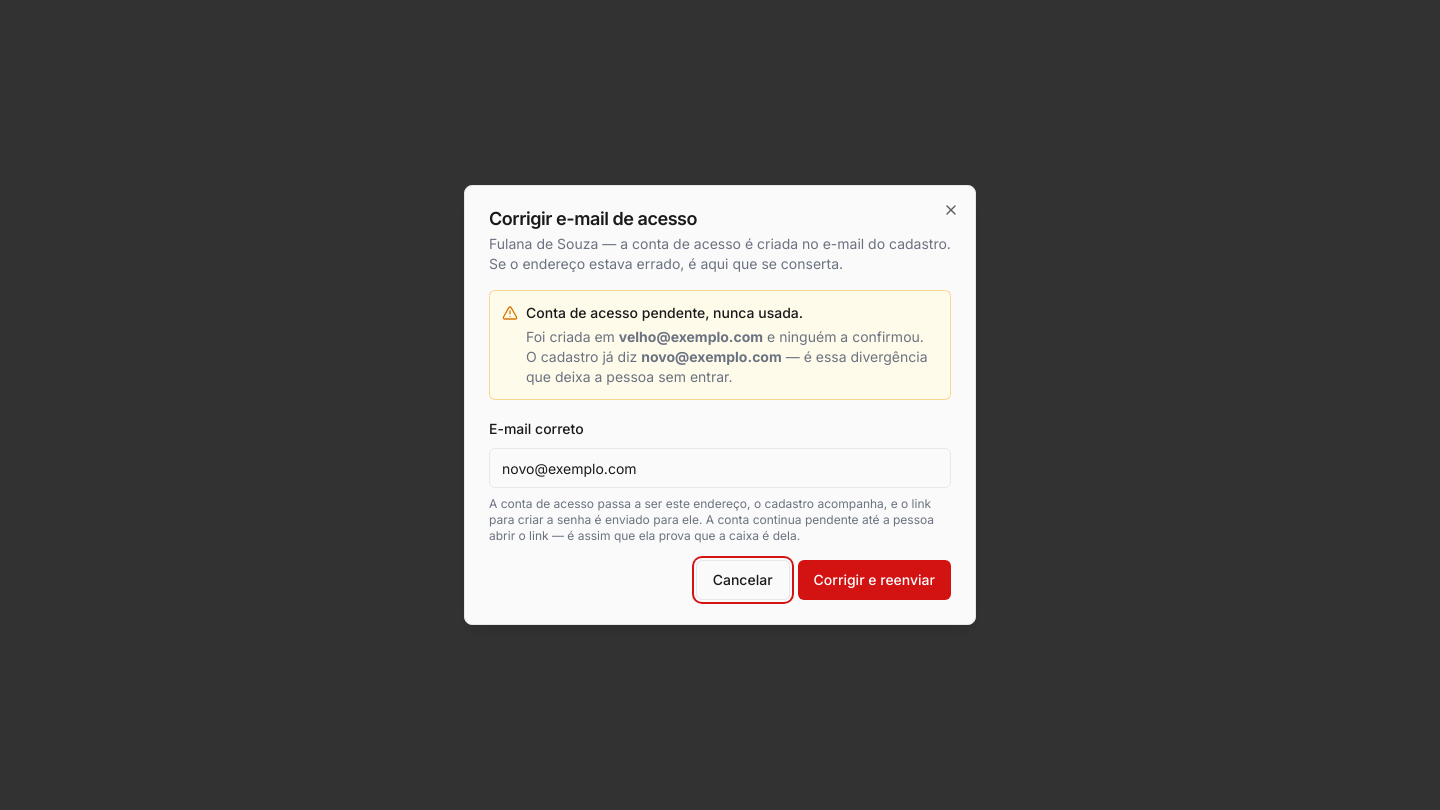
Test: CorrigirEmailAcessoDialog (interação) › depois de corrigir › erro na correção mantém o diálogo aberto, com o preenchimento
Click the button "Corrigir e reenviar".
click(874, 580)  # box [798,560,951,600]
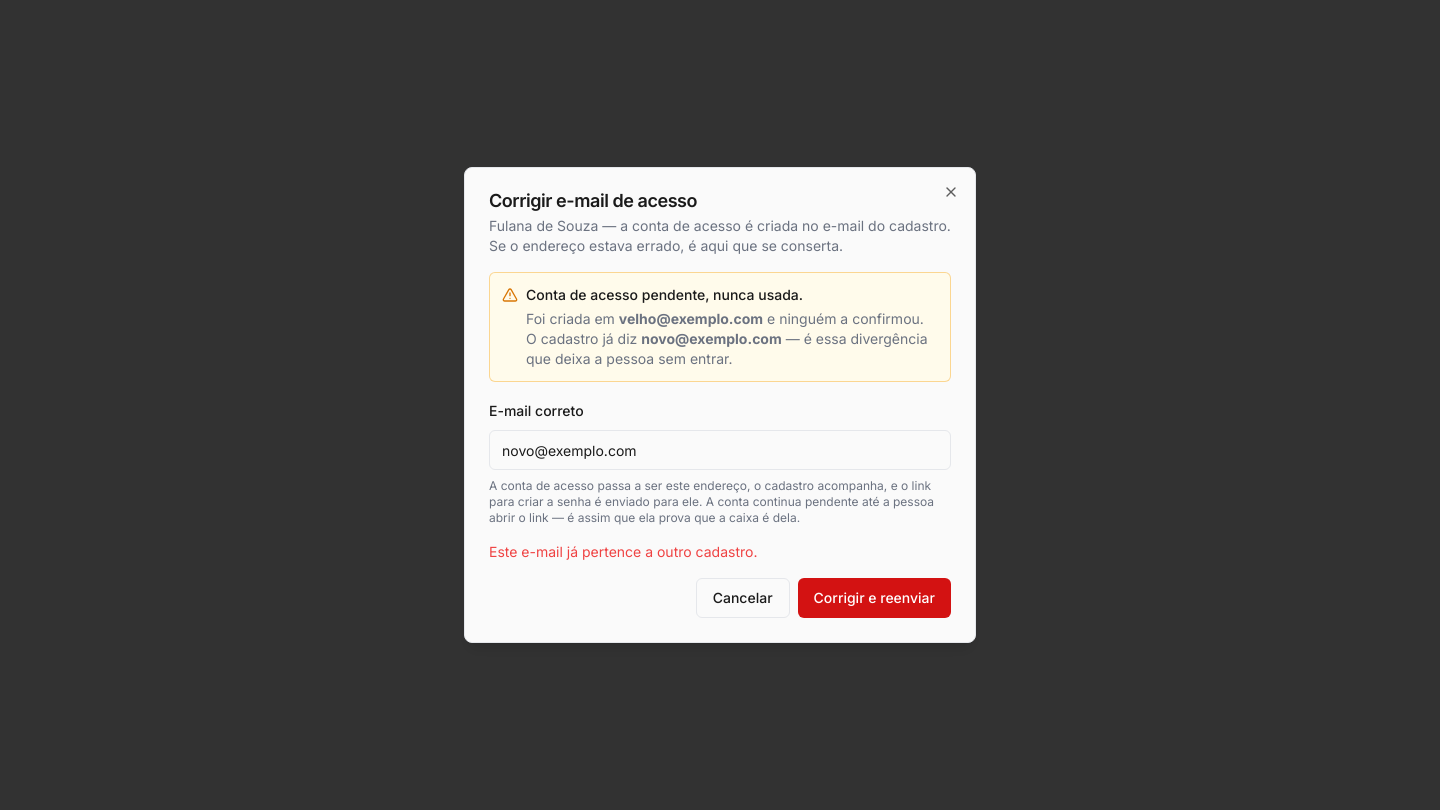
expect the field labelled "E-mail correto" holds "novo@exemplo.com": met, box [489,430,951,470]
expect the text "Este e-mail já pertence a outro cadastro." is shown: met, box [489,543,758,560]
